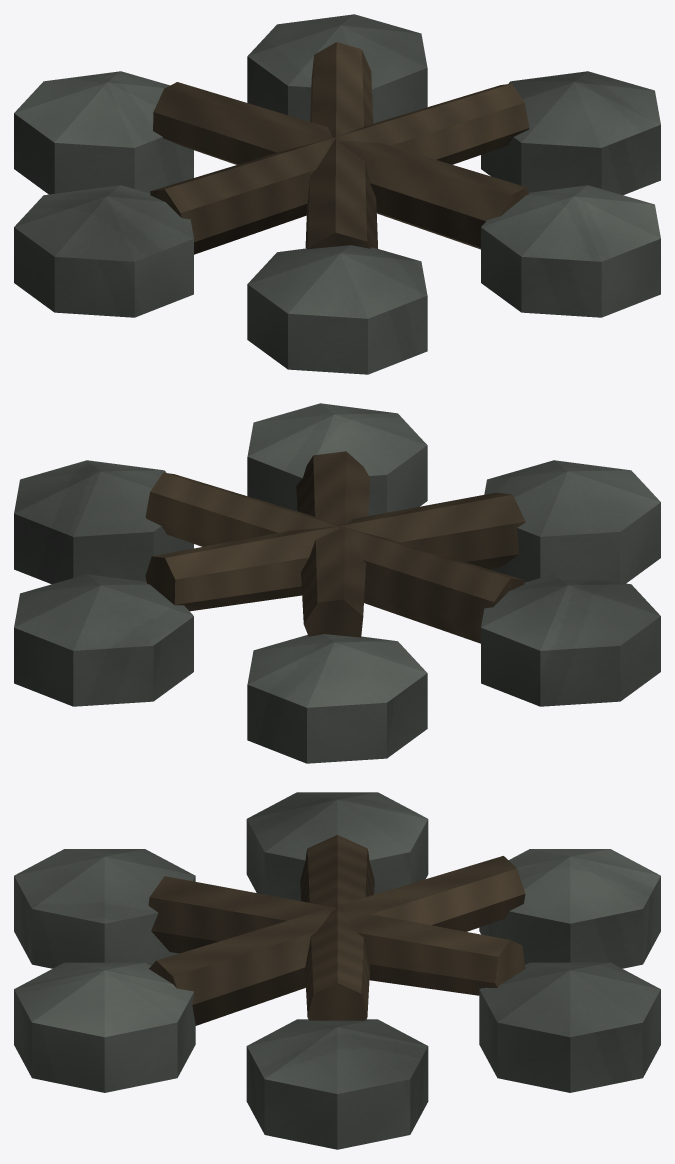
File: ColdHearth.glb
3 renders of one model, top to bottom at view 1: azimuth 30°, elevation 25°; view 2: azimuth 150°, elevation 25°; view 3: azimuth 270°, elevation 25°, orthographic.
Visible parts, largest first — view 1: ColdHearth; view 2: ColdHearth; view 3: ColdHearth.
Boxes of the visible parts, x1,y1,x2,y2 form: ColdHearth: (14, 14, 660, 374); ColdHearth: (14, 403, 660, 763); ColdHearth: (14, 792, 660, 1149).
Bounding box in the file's own units: 0.9305 × 0.1799 × 0.8426.
2 materials, 2 textured.
